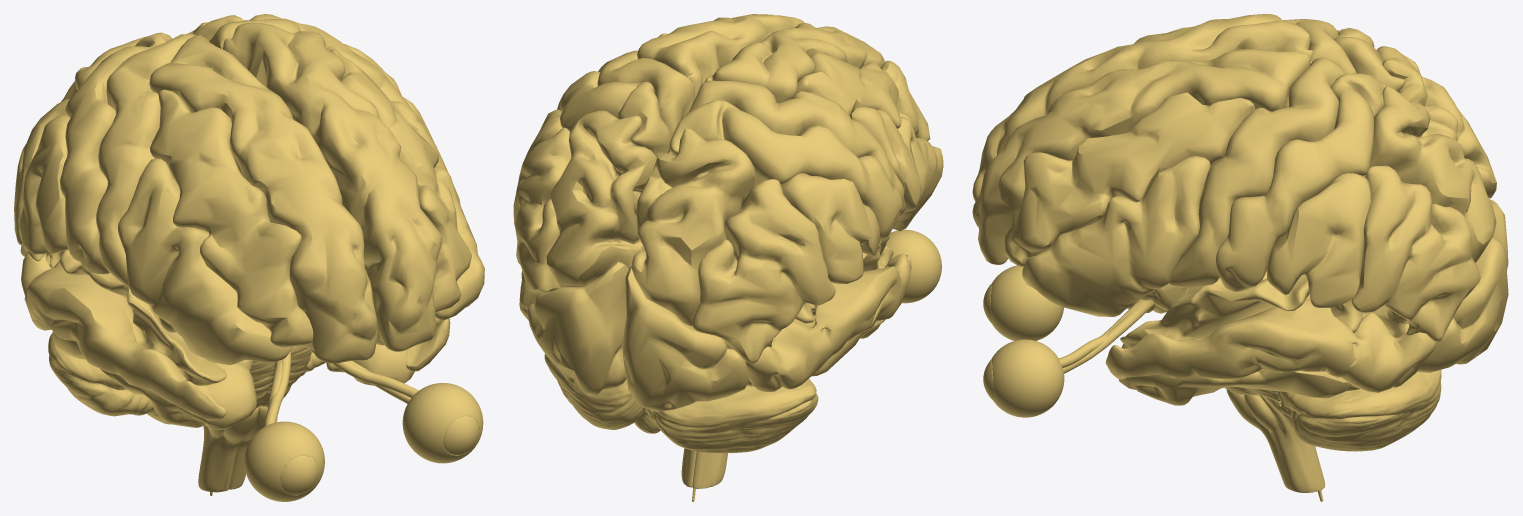
The model's file is nervous.glb.
3 views of the same model, side by side, from view 1: azimuth 30°, elevation 25°; view 2: azimuth 150°, elevation 25°; view 3: azimuth 270°, elevation 25° (orthographic). The views are drawn at different scales.
Parts seen in each view (by area): view 1: brain, eyeballs, optic-nerves; view 2: brain, eyeballs; view 3: brain, eyeballs, optic-nerves.
Part boxes in pixels (bbox=[...]): brain: bbox=[14, 14, 484, 492]; eyeballs: bbox=[244, 383, 483, 501]; optic-nerves: bbox=[264, 347, 418, 426]; brain: bbox=[513, 14, 943, 488]; eyeballs: bbox=[886, 229, 941, 303]; brain: bbox=[972, 14, 1508, 492]; eyeballs: bbox=[983, 265, 1064, 417]; optic-nerves: bbox=[1058, 299, 1154, 373].
Bounding box in the file's own units: 0.2777 × 0.3437 × 0.36.
